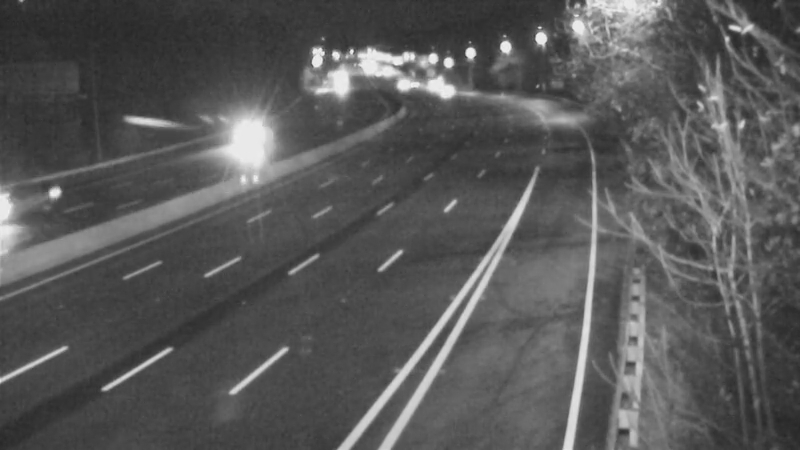vehicle: (1, 167, 68, 247), (408, 57, 458, 107), (423, 67, 473, 117), (216, 114, 266, 164)
